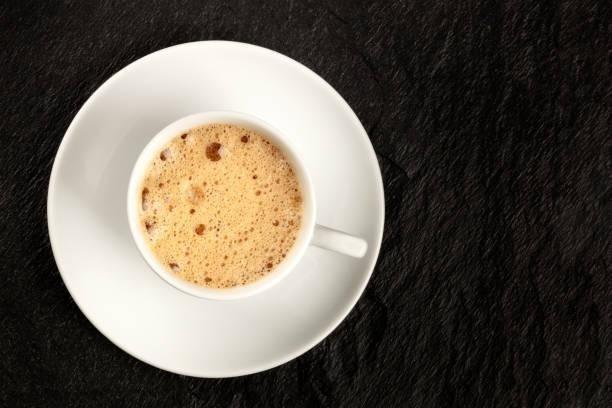cup-handle: (124, 107, 369, 303)
